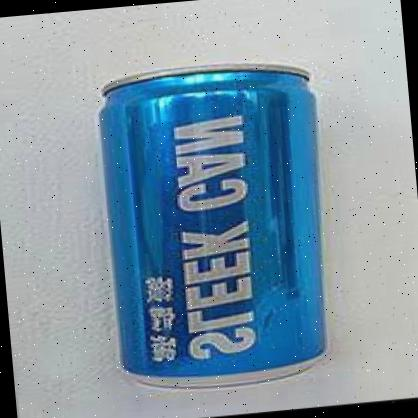can: (90, 52, 346, 400)
